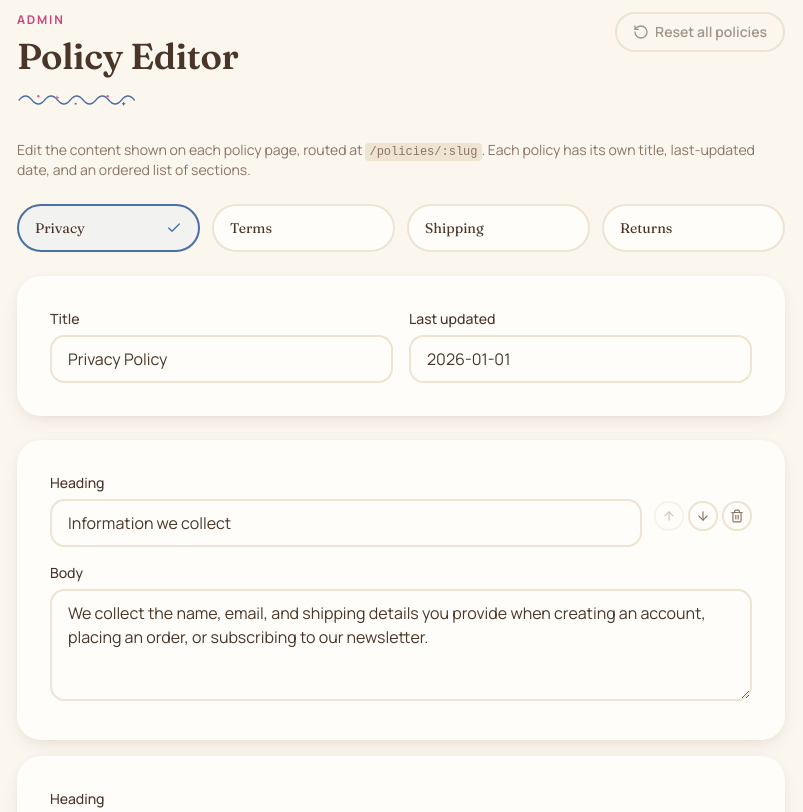
Test: PolicyEditor › switches to another policy's content when its tab is selected
Step 1. Click the button "Terms" → (304, 228), box [212,204,395,252]
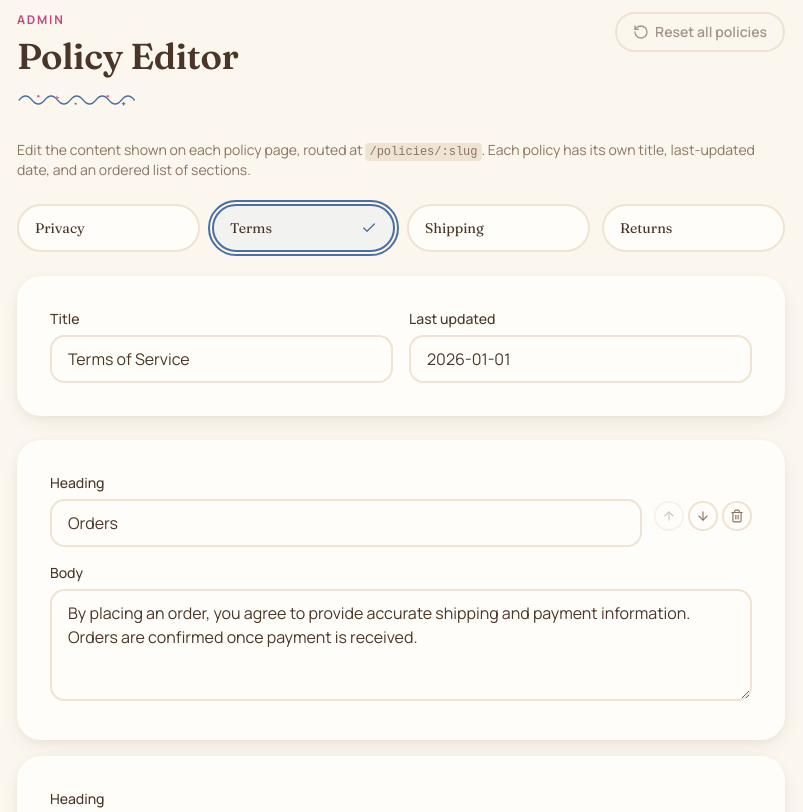
Expected: the field labelled "Title" holds "Terms of Service", [50,335,393,383]
